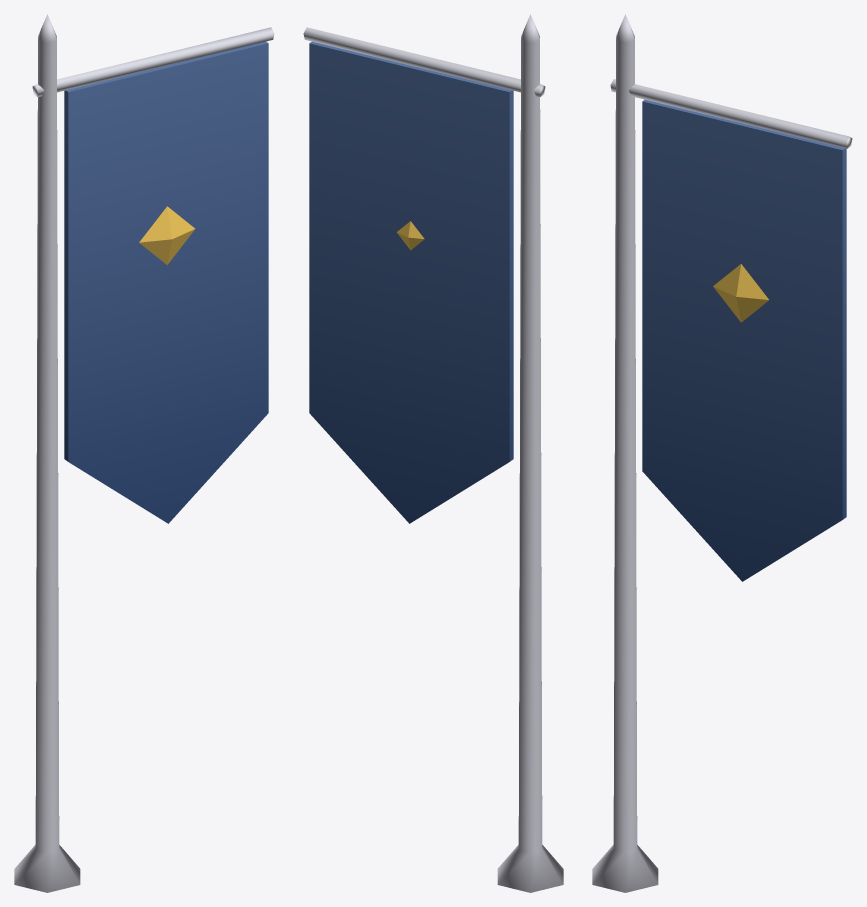
The model's file is banner_blue.glb.
The picture shows the model from 3 angles, left to right: view 1: azimuth 30°, elevation 25°; view 2: azimuth 150°, elevation 25°; view 3: azimuth 330°, elevation 25°; orthographic projection.
Visible parts, largest first — view 1: banner_blue; view 2: banner_blue; view 3: banner_blue.
Boxes of the visible parts, left/top/right/bottom form: banner_blue: left=14, top=14, right=274, bottom=892; banner_blue: left=303, top=14, right=563, bottom=892; banner_blue: left=592, top=14, right=852, bottom=892.
Size of the model in its own units: 1.09 by 3.5 by 0.2425.
